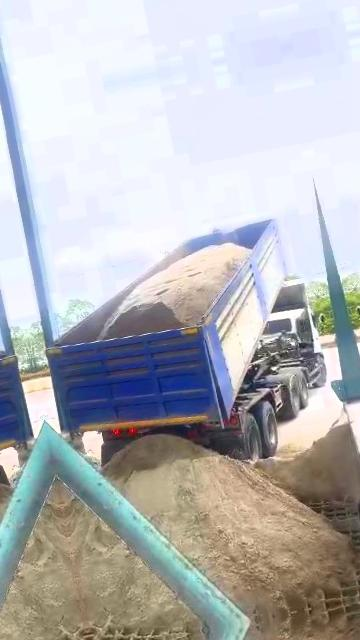sand: (105, 435, 353, 619), (62, 500, 198, 630), (97, 243, 250, 339), (256, 416, 360, 502), (87, 620, 194, 640), (56, 478, 71, 503)
